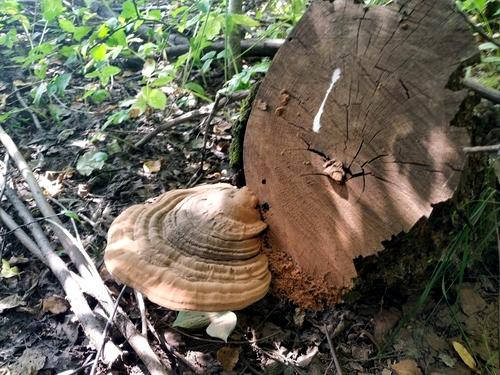Ganoderma - Fruit Body: (100, 184, 276, 316)
